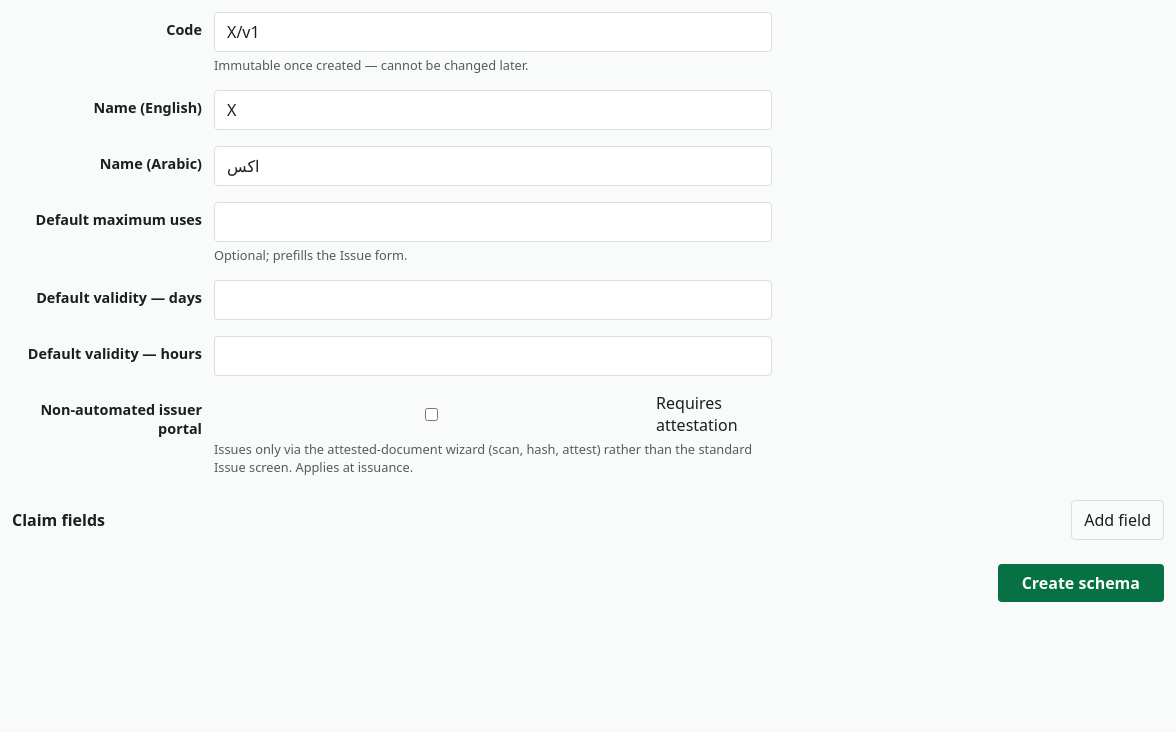
Test: SchemaBuilderForm › requires at least one claim field row
The image size is (1176, 732).
Click the button "Create schema" at (1081, 583), box [998,564,1164,602]
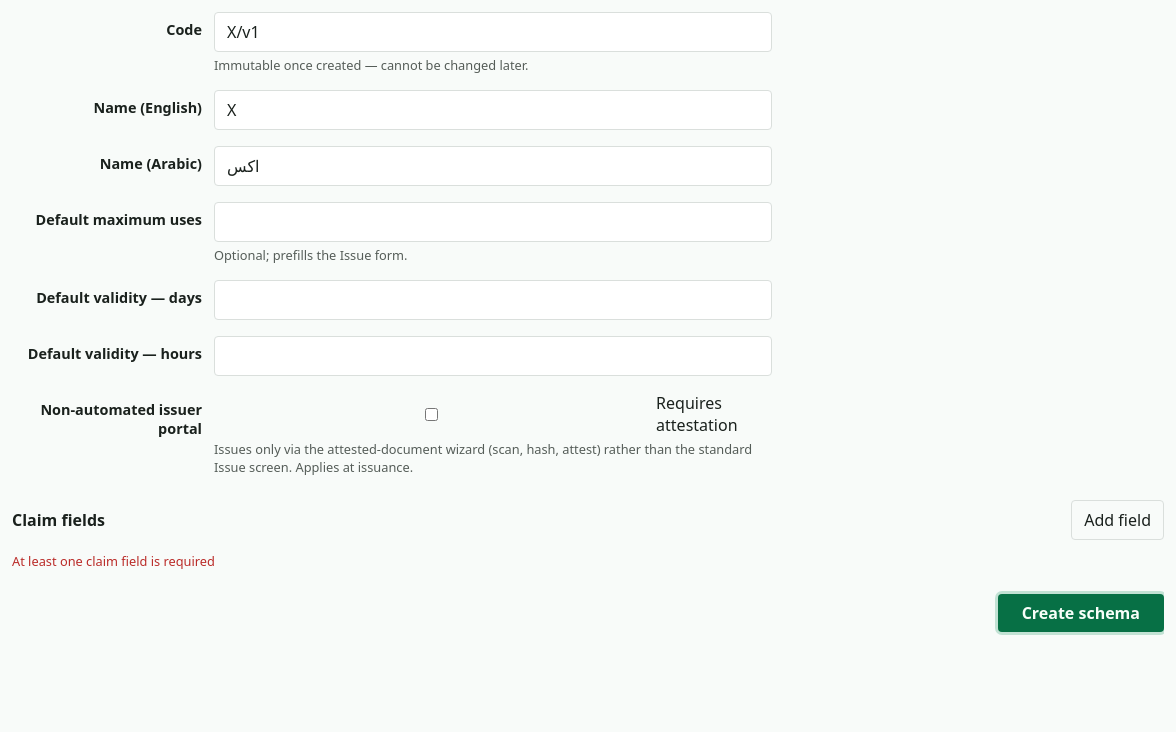
Now the text "At least one claim field is required" is shown, box [12,552,215,570]
